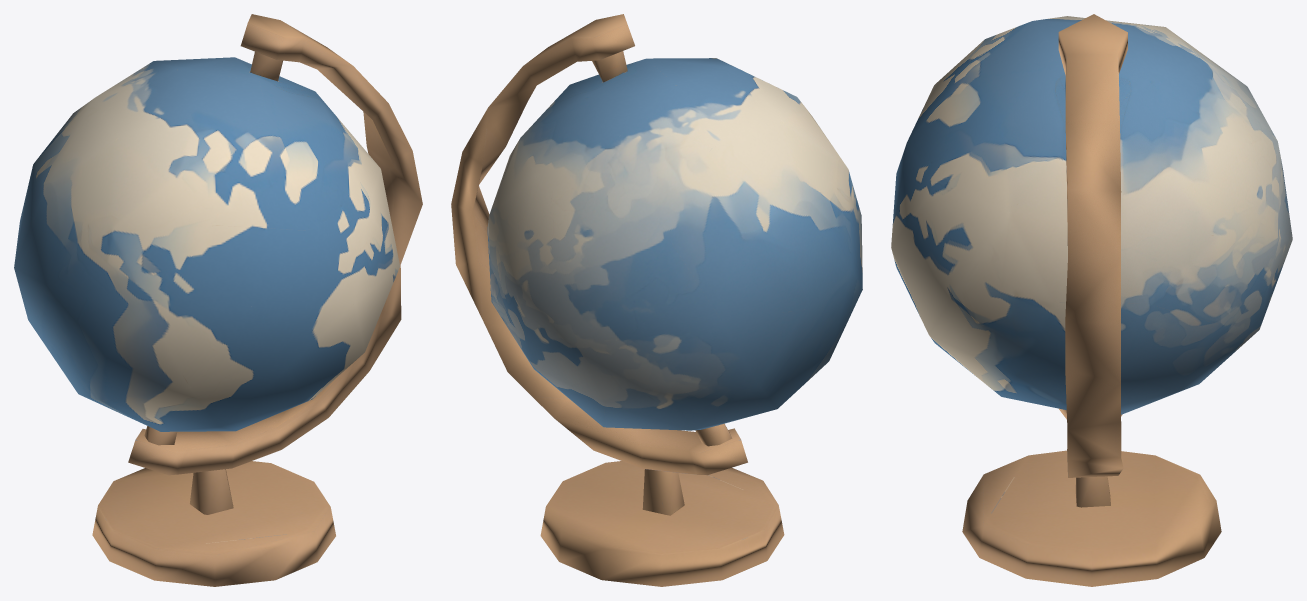
The model's file is globe.glb.
The picture shows the model from 3 angles, left to right: view 1: azimuth 30°, elevation 25°; view 2: azimuth 150°, elevation 25°; view 3: azimuth 270°, elevation 25°; orthographic projection. The views are drawn at different scales.
Size of the model in its own units: 0.7354 by 0.9448 by 0.6421.
Materials: 1 (1 with a texture image).
